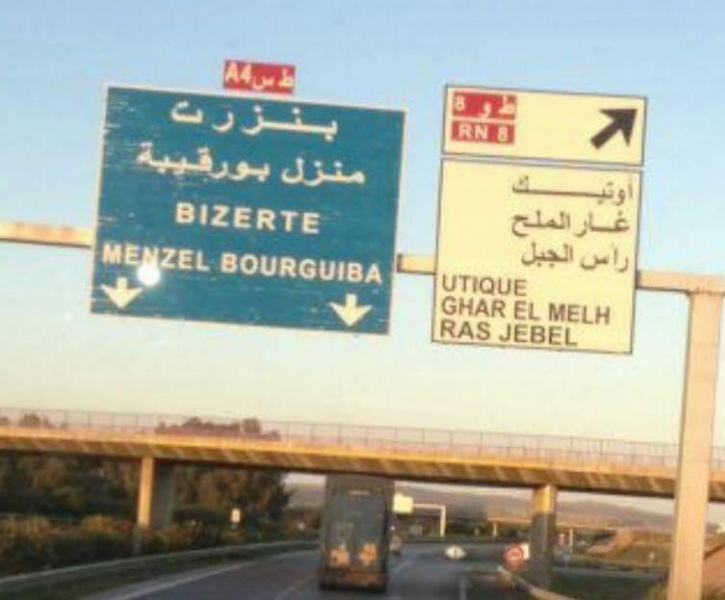text: (257, 139, 273, 187), (145, 139, 160, 187), (161, 139, 176, 187), (177, 139, 192, 187), (193, 139, 208, 187), (209, 139, 224, 187), (225, 139, 240, 187), (241, 139, 256, 187), (177, 97, 192, 145), (193, 97, 208, 145), (209, 97, 224, 145), (225, 97, 240, 145), (241, 97, 256, 145), (257, 97, 272, 145), (273, 97, 288, 145), (289, 97, 304, 145), (305, 97, 320, 145), (321, 97, 336, 145), (513, 172, 528, 208), (529, 172, 544, 208), (545, 172, 560, 208), (561, 172, 576, 208), (577, 172, 592, 208), (593, 172, 608, 208), (609, 172, 624, 208), (225, 251, 240, 285), (241, 251, 256, 285), (257, 251, 272, 285), (273, 251, 288, 285), (289, 251, 304, 285), (305, 251, 320, 285), (321, 251, 336, 285), (337, 251, 352, 285), (353, 251, 368, 285), (177, 201, 192, 235), (193, 201, 208, 235), (209, 201, 224, 235), (225, 201, 240, 235), (241, 201, 256, 235), (257, 201, 272, 235), (273, 201, 288, 235), (289, 201, 304, 235), (305, 201, 320, 235), (593, 208, 608, 240), (609, 208, 624, 240), (289, 156, 304, 188), (305, 156, 320, 188), (321, 156, 336, 188), (337, 156, 352, 188), (113, 241, 128, 273), (129, 241, 144, 273), (145, 241, 160, 273), (161, 241, 176, 273), (177, 241, 192, 273), (193, 241, 208, 273), (369, 251, 383, 285), (593, 246, 608, 277), (609, 246, 624, 277), (513, 209, 528, 239), (529, 209, 544, 239), (545, 209, 560, 239), (529, 242, 544, 270), (545, 242, 560, 270), (579, 208, 592, 240), (353, 156, 366, 188), (625, 172, 636, 208), (449, 272, 464, 298), (465, 272, 480, 298), (481, 272, 496, 298), (497, 272, 512, 298), (513, 272, 528, 298), (449, 294, 464, 320), (465, 294, 480, 320), (481, 294, 496, 320), (513, 321, 528, 347), (529, 321, 544, 347), (545, 321, 560, 347), (561, 321, 576, 347), (561, 301, 576, 326), (577, 301, 592, 326), (593, 301, 608, 326), (561, 242, 574, 270), (449, 318, 464, 342), (465, 318, 480, 342), (226, 60, 240, 85), (581, 246, 592, 277), (497, 294, 510, 320), (499, 321, 512, 347), (137, 139, 144, 187), (497, 96, 512, 117), (561, 209, 571, 239), (548, 301, 560, 326), (279, 156, 288, 188), (103, 241, 112, 273), (515, 299, 528, 321), (465, 122, 480, 141), (529, 299, 541, 321), (625, 208, 633, 240), (481, 99, 492, 121), (277, 67, 288, 89), (171, 97, 176, 145), (481, 318, 491, 342), (257, 76, 272, 92), (497, 128, 512, 143), (241, 60, 250, 85), (625, 246, 632, 277), (455, 94, 464, 116), (521, 242, 528, 270), (440, 318, 448, 342), (481, 122, 491, 141), (289, 67, 297, 89), (442, 272, 448, 298), (609, 301, 614, 326), (444, 294, 448, 320), (221, 251, 224, 285), (459, 122, 464, 141), (513, 96, 517, 117), (321, 201, 323, 235), (209, 241, 211, 273), (252, 76, 256, 92), (273, 76, 277, 92), (510, 209, 512, 239), (577, 321, 579, 347), (337, 97, 338, 145), (478, 99, 480, 121), (465, 94, 467, 116), (175, 201, 176, 235), (529, 272, 530, 298), (495, 96, 496, 117)
